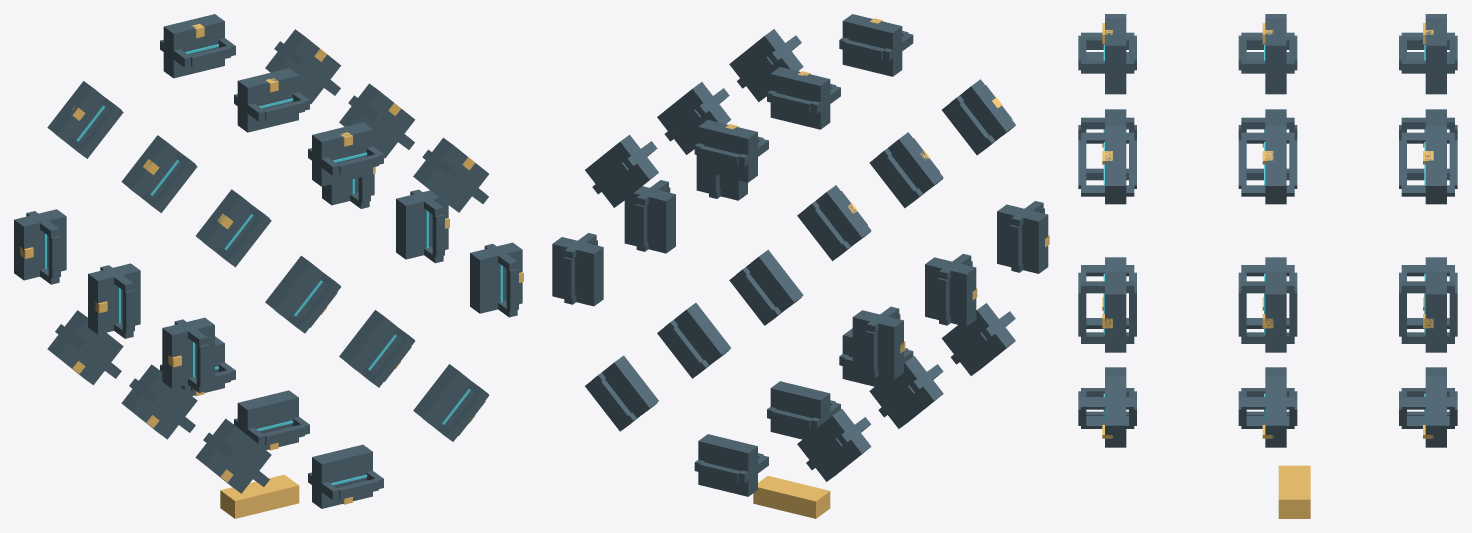
The model's file is MIST-PAIR-recovery-dock.glb.
3 views of the same model, side by side, from view 1: azimuth 30°, elevation 25°; view 2: azimuth 150°, elevation 25°; view 3: azimuth 270°, elevation 25° (orthographic). The views are drawn at different scales.
Parts seen in each view (by area): view 1: holder, index, coupon; view 2: holder, index; view 3: holder, index, coupon.
Boxes of the visible parts, bbox=[...] form: holder: bbox=[14, 14, 522, 508]; index: bbox=[20, 23, 523, 518]; coupon: bbox=[44, 44, 502, 485]; holder: bbox=[552, 14, 1048, 496]; index: bbox=[725, 18, 1049, 518]; holder: bbox=[1078, 14, 1457, 447]; index: bbox=[1102, 23, 1433, 518]; coupon: bbox=[1103, 45, 1425, 420].
Size of what is drawn, in the model's own units: 0.164 by 0.194 by 0.142.
